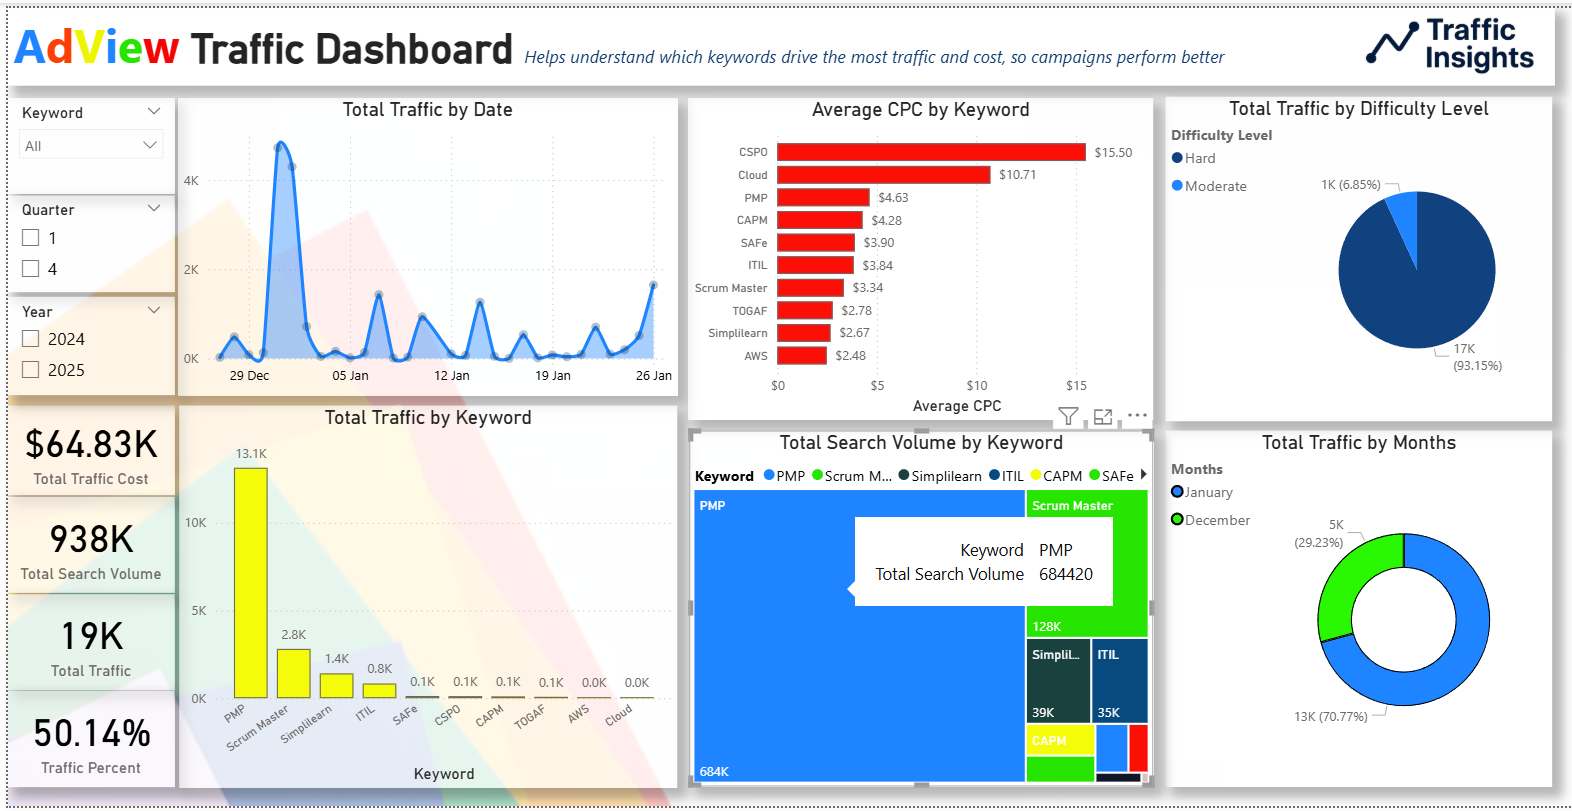

The dashboard page shown, as its layout file describes it:
{"tool":"powerbi","page":{"name":"Adwords_Traffic_overview","canvas":[1450,740],"ordinal":0},"visuals":[{"type":"textbox","box":[0,0,1433.2,71.9],"z":0},{"type":"slicer","fields":{"Values":["keyword.Keyword"]},"box":[0,82.9,154.3,88.6],"z":1000},{"type":"card","fields":{"Values":["DAX Measures.Total Traffic Cost"]},"box":[0,368.6,154.3,82.9],"z":2000},{"type":"card","fields":{"Values":["DAX Measures.Total Search Volume"]},"box":[0,452.9,154.3,88.6],"z":3000},{"type":"card","fields":{"Values":["DAX Measures.Total Traffic"]},"box":[0,542.9,154.3,88.6],"z":4000},{"type":"card","fields":{"Values":["DAX Measures.Traffic Percent"]},"box":[0,632.9,154.3,90],"z":5000},{"type":"slicer","fields":{"Values":["Calender.Quarter"]},"box":[0,174.3,154.3,90],"z":6000},{"type":"slicer","fields":{"Values":["Calender.Year"]},"box":[0,267.1,154.3,91.4],"z":7000},{"type":"lineChart","title":"Total Traffic by Date","fields":{"Y":["DAX Measures.Total Traffic"],"Category":["Calender.Date.Variation.Date Hierarchy.Year","Calender.Date.Variation.Date Hierarchy.Quarter","Calender.Date.Variation.Date Hierarchy.Month","Calender.Date.Variation.Date Hierarchy.Day"]},"box":[157.1,82.9,462.9,275.7],"z":8000},{"type":"columnChart","fields":{"Y":["DAX Measures.Total Traffic"],"Category":["keyword.Keyword"]},"box":[158.6,368.6,461.4,354.3],"z":9000},{"type":"clusteredBarChart","fields":{"Category":["keyword.Keyword"],"Y":["DAX Measures.Average CPC"]},"box":[630,82.9,431.4,298.6],"z":10000},{"type":"treemap","fields":{"Group":["keyword.Keyword"],"Values":["DAX Measures.Total Search Volume"]},"box":[631,391,430.1,330.3],"z":11000},{"type":"pieChart","fields":{"Y":["DAX Measures.Total Traffic"],"Series":["keyword_difficulty.Difficulty Level"]},"box":[1073.3,82.2,358.7,300.7],"z":12000},{"type":"donutChart","fields":{"Category":["Calender.Months"],"Y":["DAX Measures.Total Traffic"]},"box":[1073.3,391,358.7,330.3],"z":13000},{"type":"image","box":[1237.1,0,195.7,71.4],"z":14000}]}

Visuals, with their boxes in screenshot pixels (x1, y1, x2, y2), scaled from the page's 1450x740 canvas onto the 1572x811 screenshot:
textbox: bbox(0, 0, 1554, 79)
slicer - keyword.Keyword: bbox(0, 91, 167, 188)
card - DAX Measures.Total Traffic Cost: bbox(0, 404, 167, 495)
card - DAX Measures.Total Search Volume: bbox(0, 496, 167, 593)
card - DAX Measures.Total Traffic: bbox(0, 595, 167, 692)
card - DAX Measures.Traffic Percent: bbox(0, 694, 167, 792)
slicer - Calender.Quarter: bbox(0, 191, 167, 290)
slicer - Calender.Year: bbox(0, 293, 167, 393)
"Total Traffic by Date" lineChart: bbox(170, 91, 672, 393)
columnChart - DAX Measures.Total Traffic x keyword.Keyword: bbox(172, 404, 672, 792)
clusteredBarChart - keyword.Keyword x DAX Measures.Average CPC: bbox(683, 91, 1151, 418)
treemap - keyword.Keyword x DAX Measures.Total Search Volume: bbox(684, 429, 1150, 791)
pieChart - DAX Measures.Total Traffic x keyword_difficulty.Difficulty Level: bbox(1164, 90, 1552, 420)
donutChart - Calender.Months x DAX Measures.Total Traffic: bbox(1164, 429, 1552, 791)
image: bbox(1341, 0, 1553, 78)
